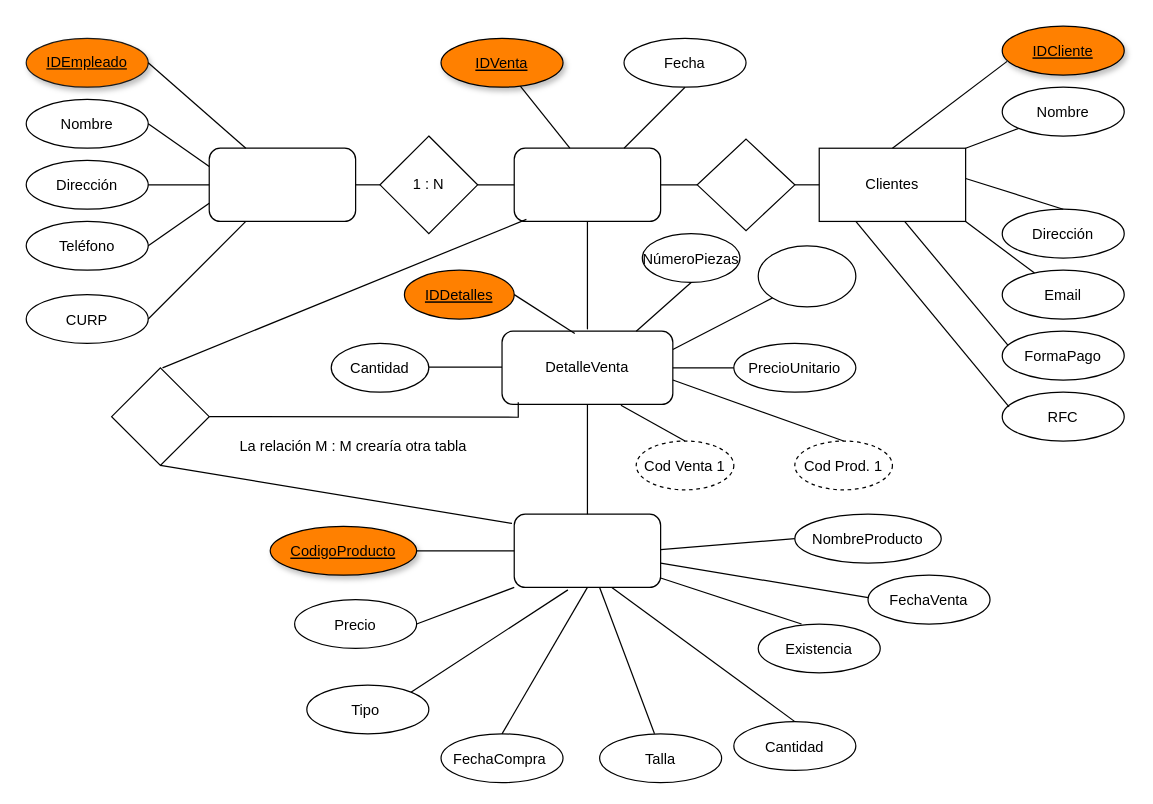
The diagram is 1153 pixels wide and 804 high, and some of its shapes have lost their labels. Here are the shapes that lost their labels. From the top down, the centre of each, then its label:
At (282,184): "Empleados".
At (587,184): "Ventas".
At (745,184): "N : 1".
At (806,276): "Total".
At (159,416): "M : M".
At (587,550): "Productos".
